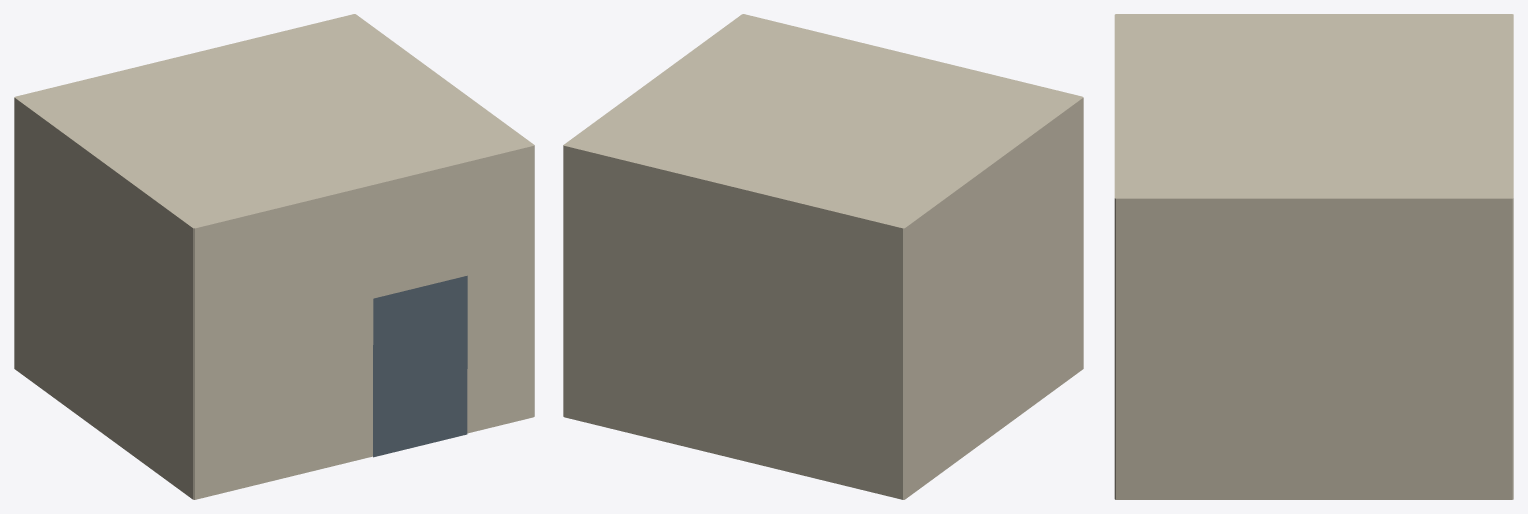
File: loin-etape-1.glb
3 views of the same model, side by side, from view 1: azimuth 30°, elevation 25°; view 2: azimuth 150°, elevation 25°; view 3: azimuth 270°, elevation 25° (orthographic). The views are drawn at different scales.
Visible parts, largest first — view 1: loin; view 2: loin; view 3: loin.
Part boxes in pixels (x1,y1,x2,y2): loin: (14,14,534,499); loin: (563,14,1083,499); loin: (1114,14,1513,499).
Size of the model in its own units: 0.735 by 0.5586 by 0.6751.
